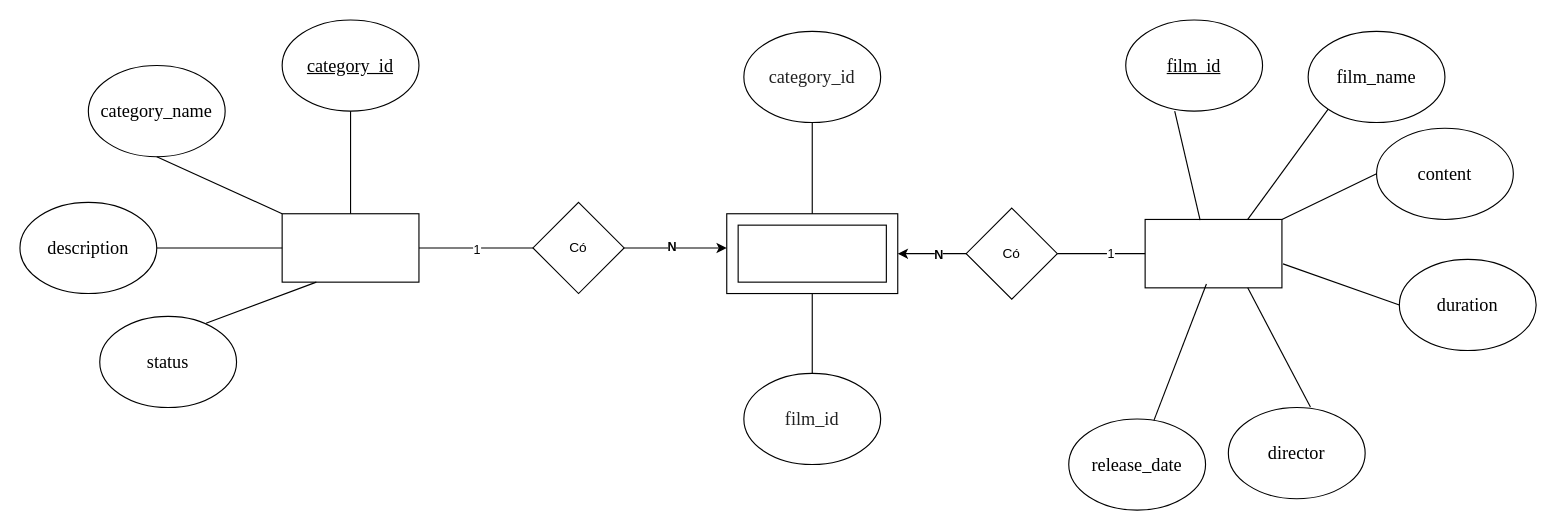
Image size: 1556x530. Some labels were removed from this diagram. Each missing label, with the centre of its shape:
Category: the point at 350,247
Category_Film: the point at 811,253
Film: the point at 1213,253
